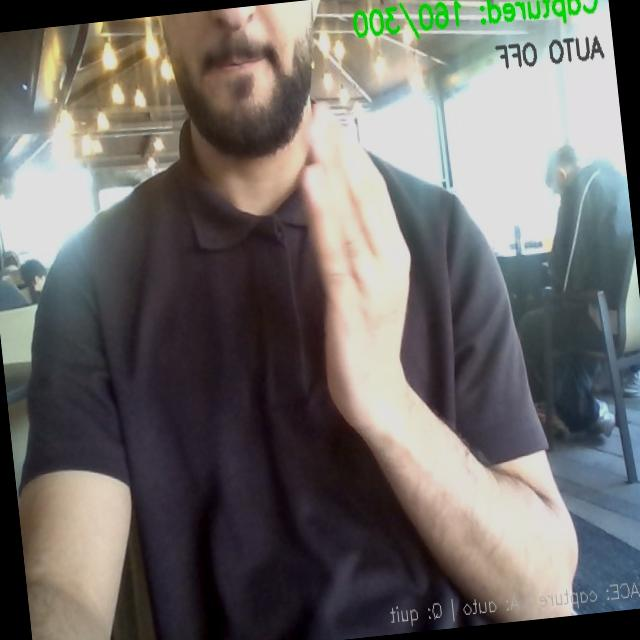Hand: (302, 106, 409, 432)
